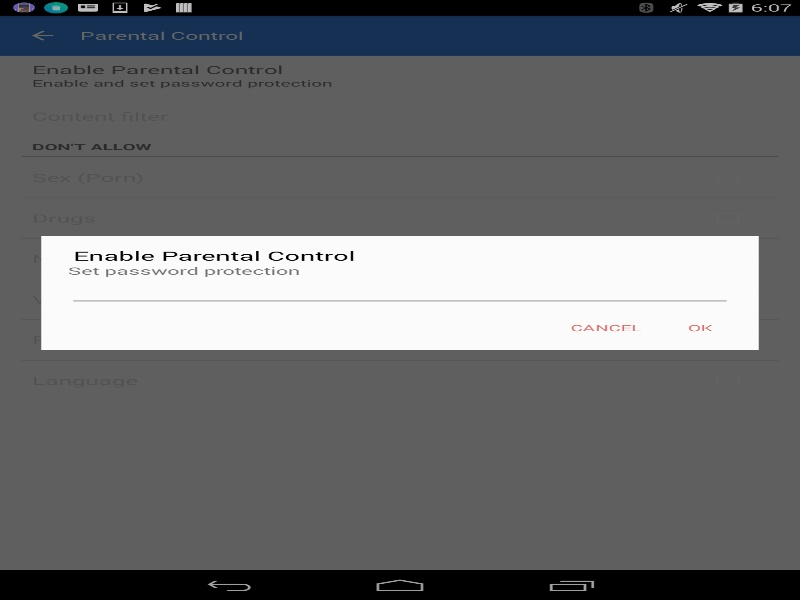Button: (554, 310, 657, 344), (657, 310, 742, 344)
Input: (68, 277, 732, 305)
